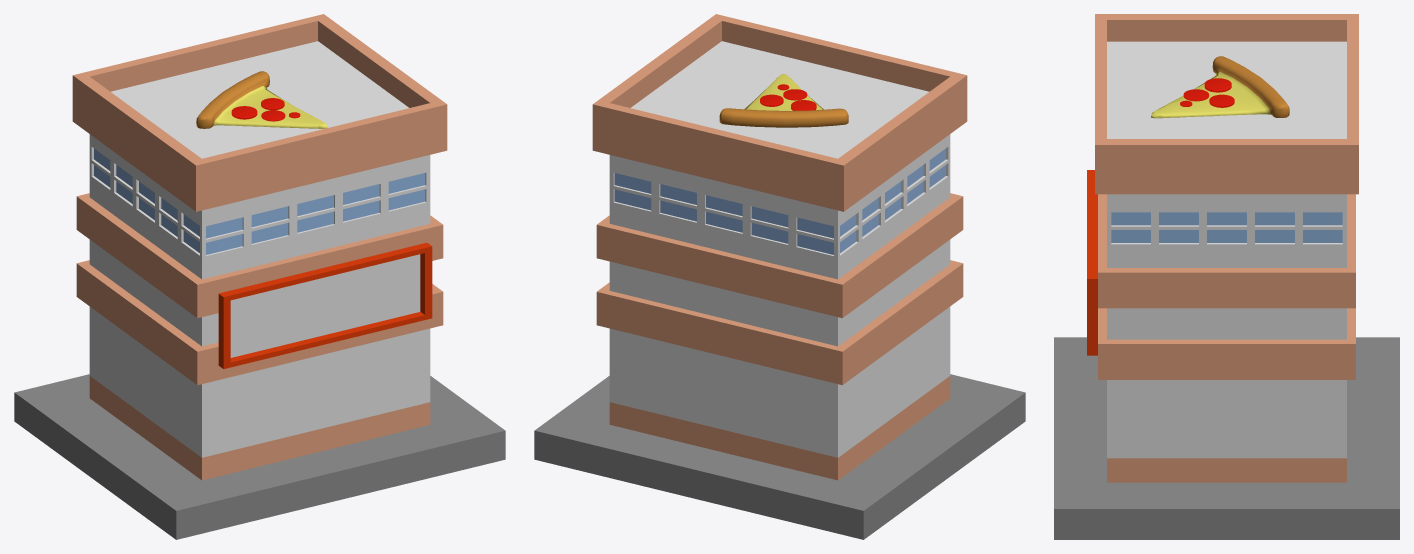
Rendered from PIZZA.fbx.
The picture shows the model from 3 angles, left to right: view 1: azimuth 30°, elevation 25°; view 2: azimuth 150°, elevation 25°; view 3: azimuth 270°, elevation 25°; orthographic projection. The views are drawn at different scales.
Parts seen in each view (by area): view 1: Cube.013; view 2: Cube.013; view 3: Cube.013.
Part boxes in pixels (x1=…): Cube.013: x1=14, y1=14, x2=505, y2=539; Cube.013: x1=534, y1=14, x2=1025, y2=539; Cube.013: x1=1054, y1=14, x2=1399, y2=539.
Size of the model in its own units: 316 by 321 by 269.
